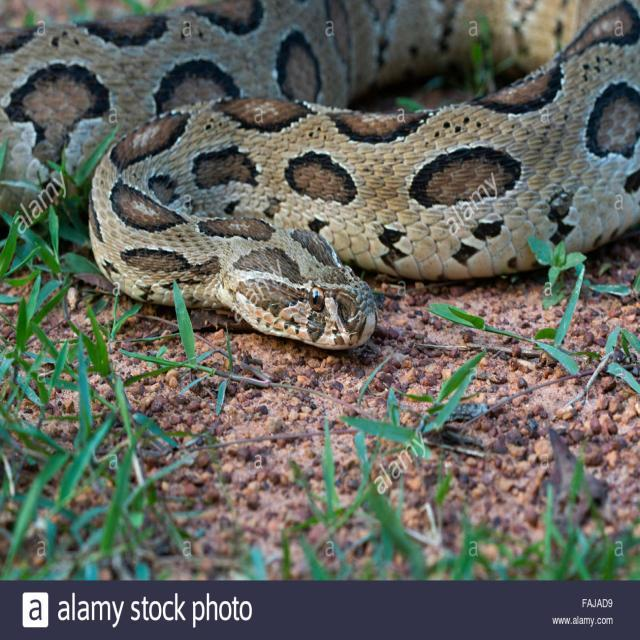Snake: (86, 0, 640, 350)
